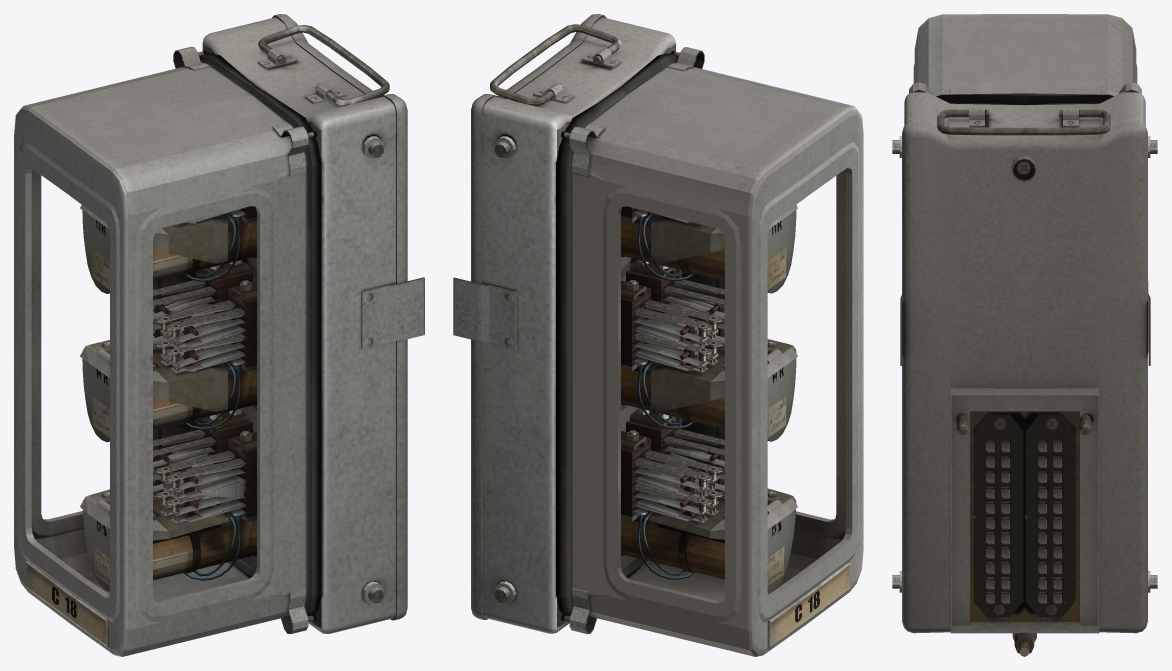
3 views of the same model, side by side, from view 1: azimuth 30°, elevation 25°; view 2: azimuth 150°, elevation 25°; view 3: azimuth 270°, elevation 25° (orthographic). The views are drawn at different scales.
Parts seen in each view (by area): view 1: C_18, ya005, ya004, ya006, k007, k009, k008, p006; view 2: C_18, ya005, ya004, ya006, k007, k009, k008; view 3: C_18.
Boxes of the visible parts, x1,y1,x2,y2 form: C_18: (14, 14, 424, 656); ya005: (80, 340, 227, 442); ya004: (80, 205, 227, 293); ya006: (82, 484, 228, 591); k007: (153, 296, 245, 343); k009: (153, 445, 245, 491); k008: (153, 324, 245, 368); p006: (153, 446, 198, 517); C_18: (453, 14, 863, 656); ya005: (651, 339, 797, 441); ya004: (651, 205, 797, 293); ya006: (650, 483, 796, 591); k007: (633, 296, 724, 343); k009: (633, 444, 724, 490); k008: (633, 323, 724, 367); C_18: (892, 14, 1157, 656).
Size of the model in its own units: 0.1742 by 0.2963 by 0.1347.
